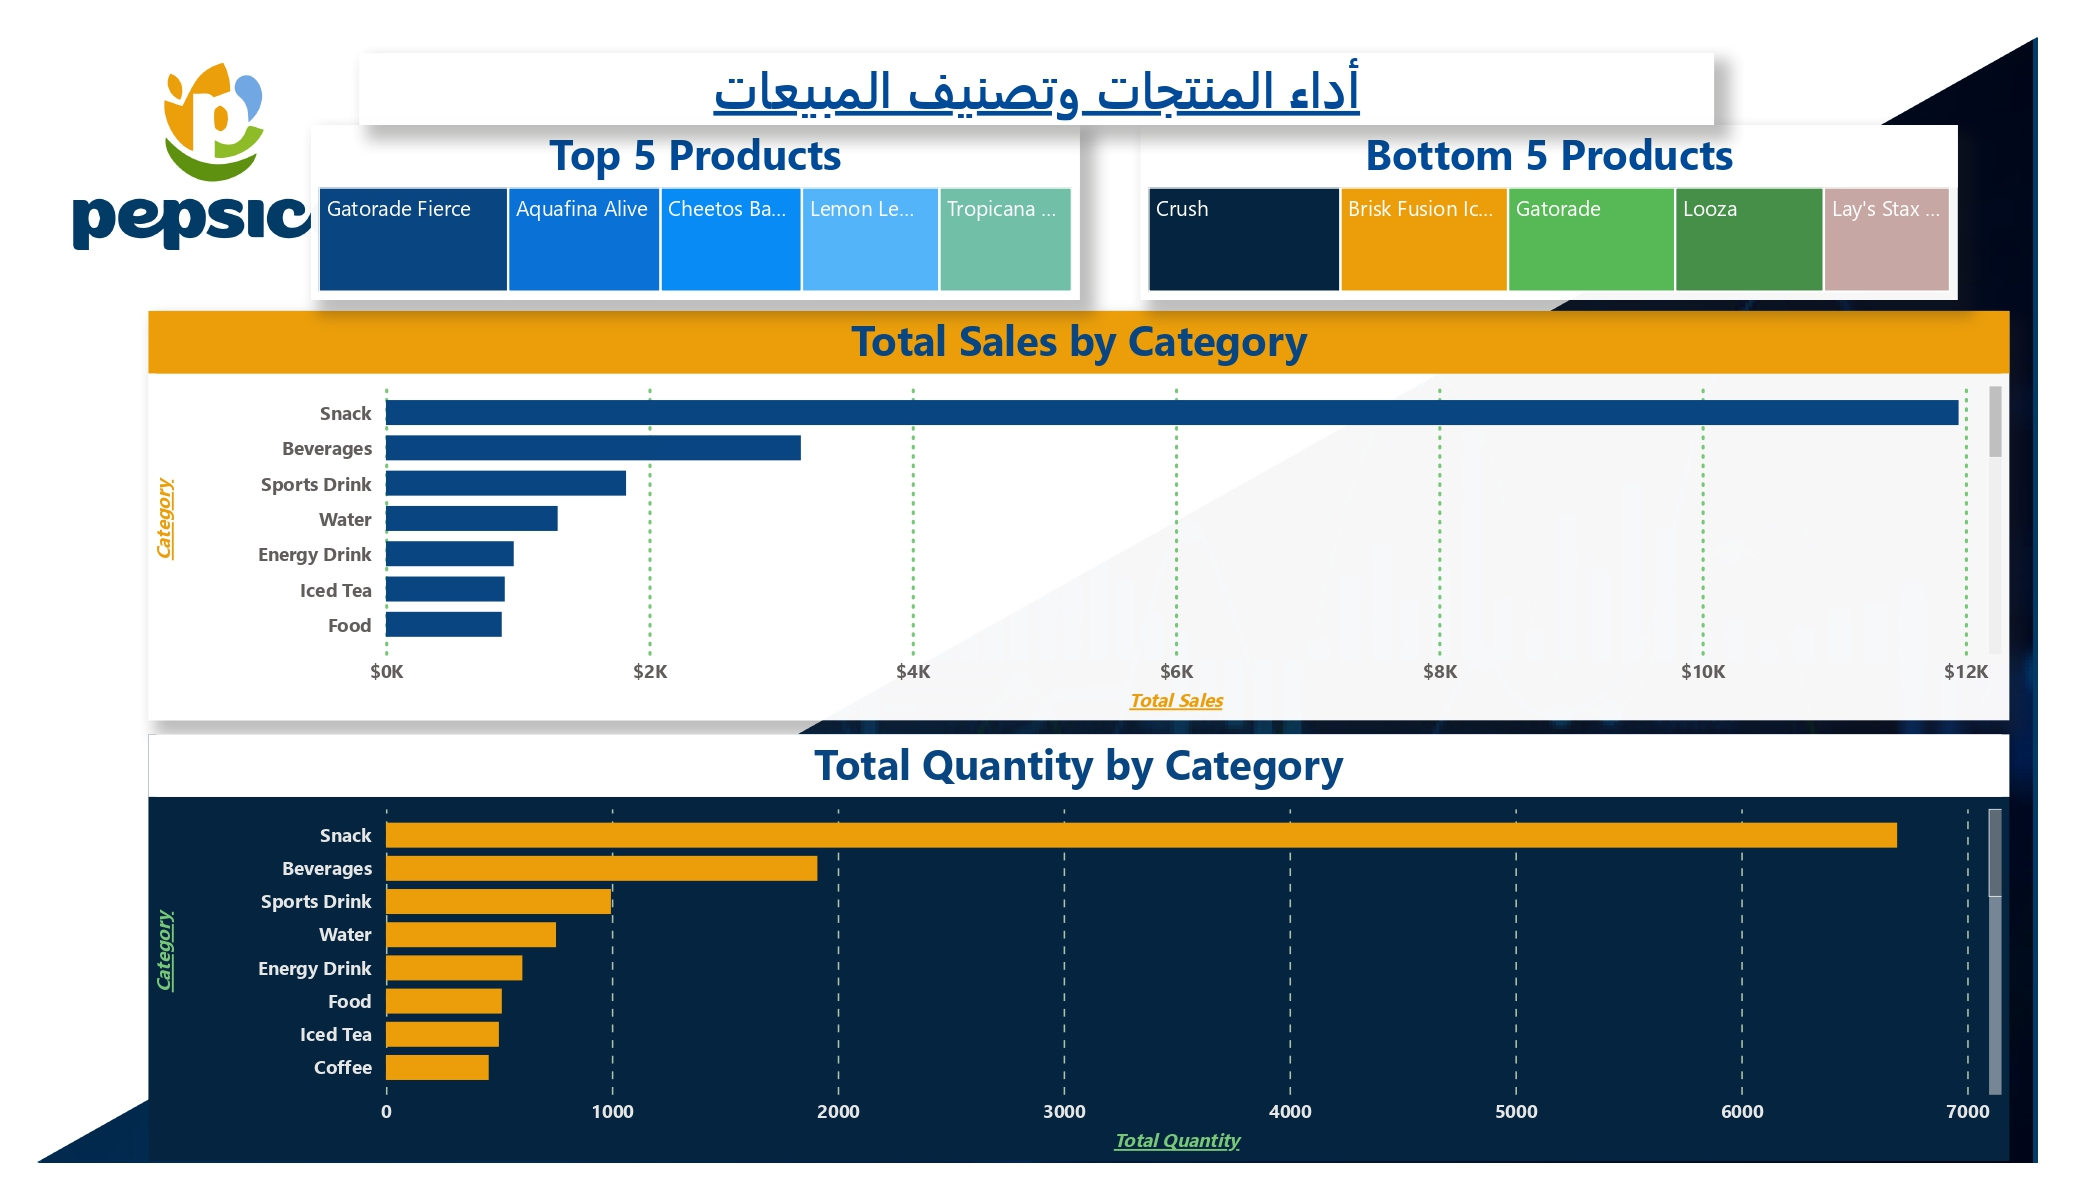

The dashboard page shown, as its layout file describes it:
{"tool":"powerbi","page":{"name":"Products & Categories","canvas":[1280,720],"ordinal":2},"visuals":[{"type":"clusteredBarChart","fields":{"Category":["Products.Category"],"Y":["InvoiceDetails.Total Sales"]},"box":[71.2,175,1190.4,261.5],"z":0},{"type":"treemap","title":"Top 5 Products","fields":{"Group":["Products.Product Name"],"Values":["InvoiceDetails.Total Sales"]},"box":[175,56.1,492.3,111.5],"z":1000},{"type":"treemap","title":"Bottom 5 Products","fields":{"Group":["Products.Product Name"],"Values":["InvoiceDetails.Total Sales"]},"box":[705.8,56.1,523.1,111.5],"z":2000},{"type":"clusteredBarChart","fields":{"Category":["Products.Category"],"Y":["InvoiceDetails.Total Quantity"]},"box":[71.2,446.2,1190.4,273.1],"z":3000},{"type":"textbox","title":"أداء المنتجات وتصنيف المبيعات","box":[205.8,9.6,867.3,46.2],"z":4000}]}

Visuals, with their boxes on the page's 1280x720 design canvas (x1, y1, x2, y2). These are canvas units, not pixel positions in the 2075x1200 screenshot, which may show the page scaled, cropped or inside an application window:
clusteredBarChart - Products.Category x InvoiceDetails.Total Sales: bbox(71, 175, 1262, 436)
"Top 5 Products" treemap: bbox(175, 56, 667, 168)
"Bottom 5 Products" treemap: bbox(706, 56, 1229, 168)
clusteredBarChart - Products.Category x InvoiceDetails.Total Quantity: bbox(71, 446, 1262, 719)
"أداء المنتجات وتصنيف المبيعات" textbox: bbox(206, 10, 1073, 56)
